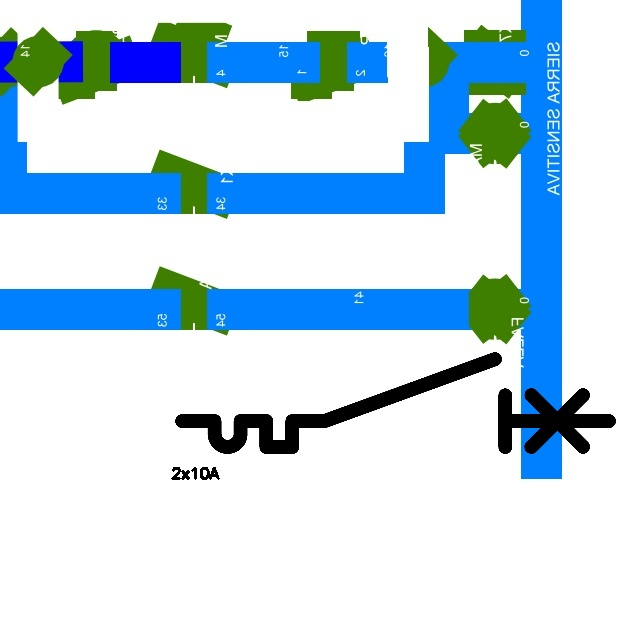interruptor_termomagnetico: (171, 348, 620, 458)
